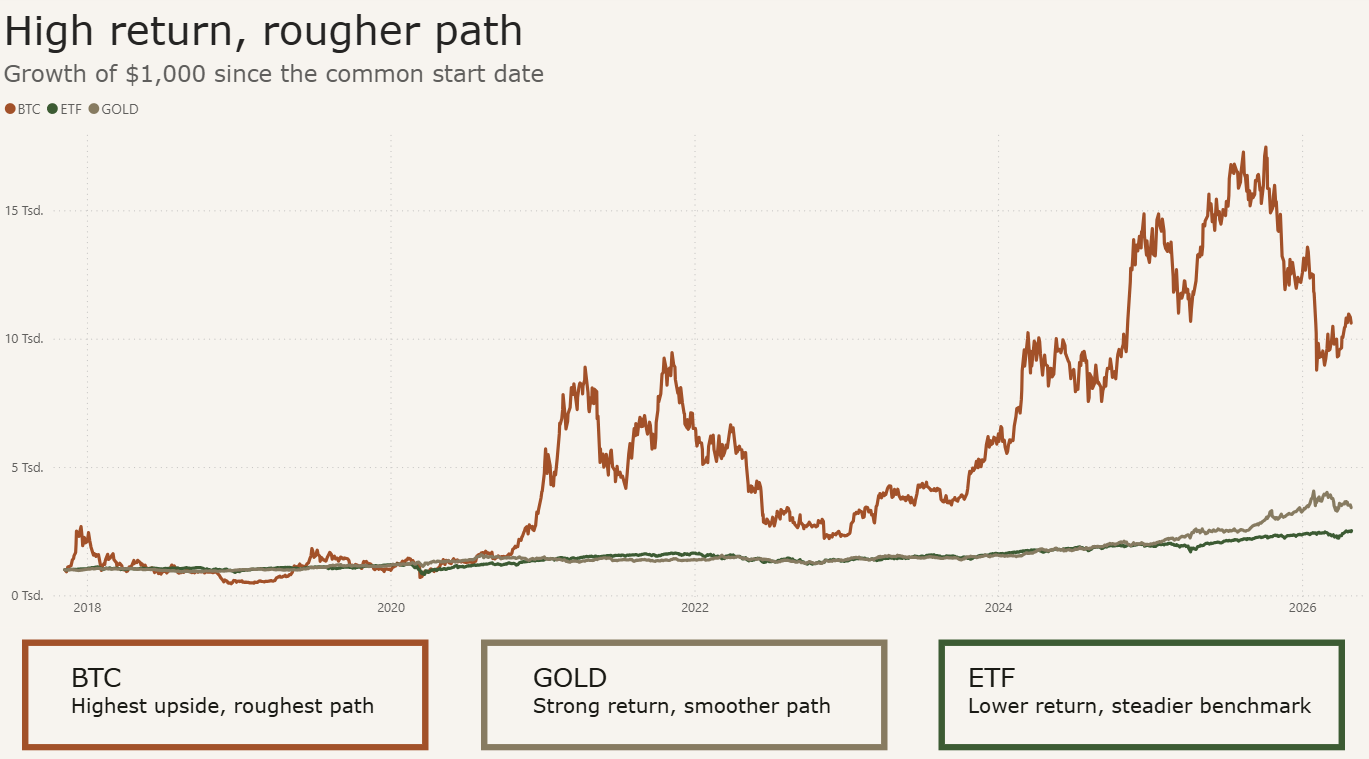

The page's visual inventory and layout, read from the dashboard file:
{"tool":"powerbi","page":{"name":"Return path","canvas":[1280,720],"ordinal":1},"visuals":[{"type":"lineChart","title":"Bitcoin led returns. Gold quietly beat equities.","fields":{"Y":["Sum(executive_normalized_1000.indexed_value)"],"Series":["executive_normalized_1000.asset"],"Category":["executive_normalized_1000.date"]},"box":[0,60,1280,564.3],"z":0},{"type":"shape","box":[51.4,634.3,341.4,80],"z":1000},{"type":"textbox","box":[84.3,644.3,277.1,57.1],"z":2000},{"type":"shape","box":[470,634.3,341.4,80],"z":3000},{"type":"textbox","box":[497.1,645.7,285.7,55.7],"z":4000},{"type":"shape","box":[891,634.3,341.4,80],"z":5000},{"type":"textbox","box":[919.5,645.7,285.7,55.7],"z":6000},{"type":"textbox","box":[0,0,508.6,60],"z":7000}]}

Visuals, with their boxes in screenshot pixels (x1, y1, x2, y2), scaled from the page's 1280x720 canvas onto the 1369x759 screenshot:
"Bitcoin led returns. Gold quietly beat equities." lineChart: locate(0, 63, 1368, 658)
shape: locate(55, 669, 420, 753)
textbox: locate(90, 679, 387, 739)
shape: locate(503, 669, 868, 753)
textbox: locate(532, 681, 837, 739)
shape: locate(953, 669, 1318, 753)
textbox: locate(983, 681, 1289, 739)
textbox: locate(0, 0, 544, 63)
